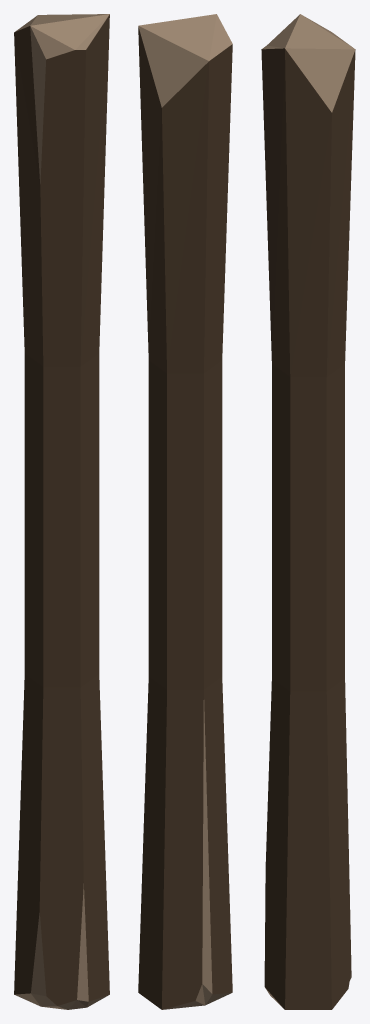
File: Wood_Strut_01.FBX
3 views of the same model, side by side, from view 1: azimuth 30°, elevation 25°; view 2: azimuth 210°, elevation 25°; view 3: azimuth 270°, elevation 25° (orthographic).
Parts seen in each view (by area): view 1: Wood_Strut_01; view 2: Wood_Strut_01; view 3: Wood_Strut_01.
Boxes of the visible parts, x1,y1,x2,y2 form: Wood_Strut_01: (14,14,109,1009); Wood_Strut_01: (138,14,232,1009); Wood_Strut_01: (261,14,355,1009).
Bounding box in the file's own units: 0.3654 × 4.76 × 0.422.
